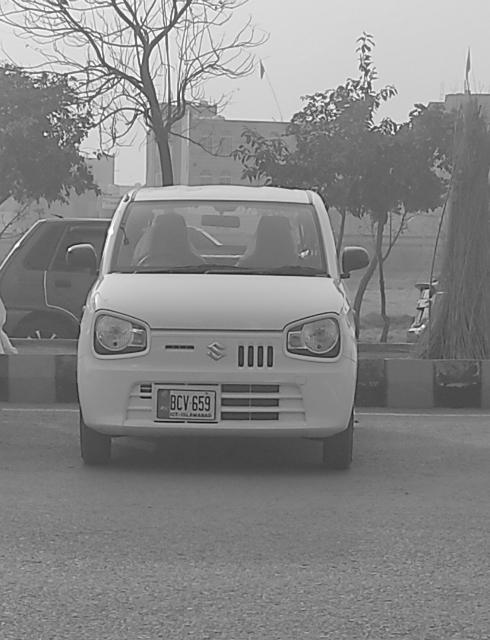Number: (171, 394, 213, 412)
